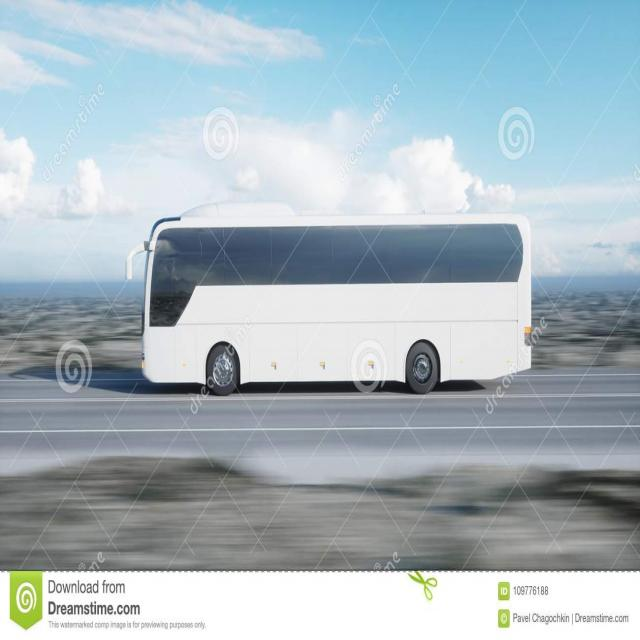BUS: (106, 175, 542, 384)
